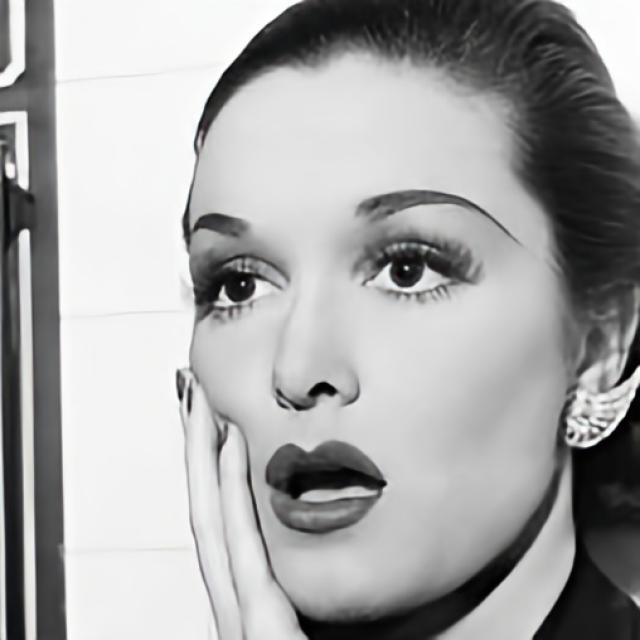surprise: (183, 48, 572, 625)
